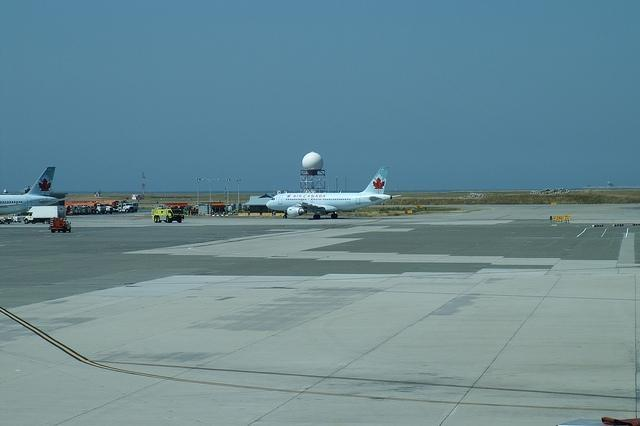truck: (22, 205, 68, 224), (150, 204, 184, 223), (48, 216, 72, 234), (85, 202, 106, 213), (122, 203, 134, 212), (104, 204, 115, 213)
